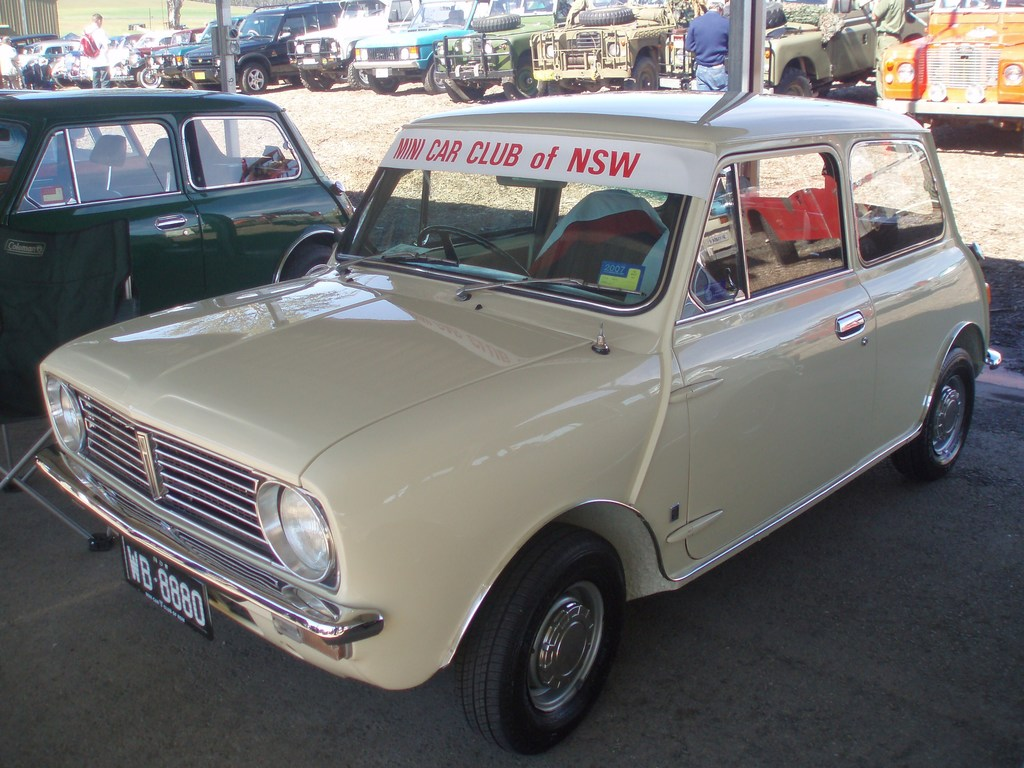Car: (0, 80, 1011, 748), (0, 91, 369, 421)
